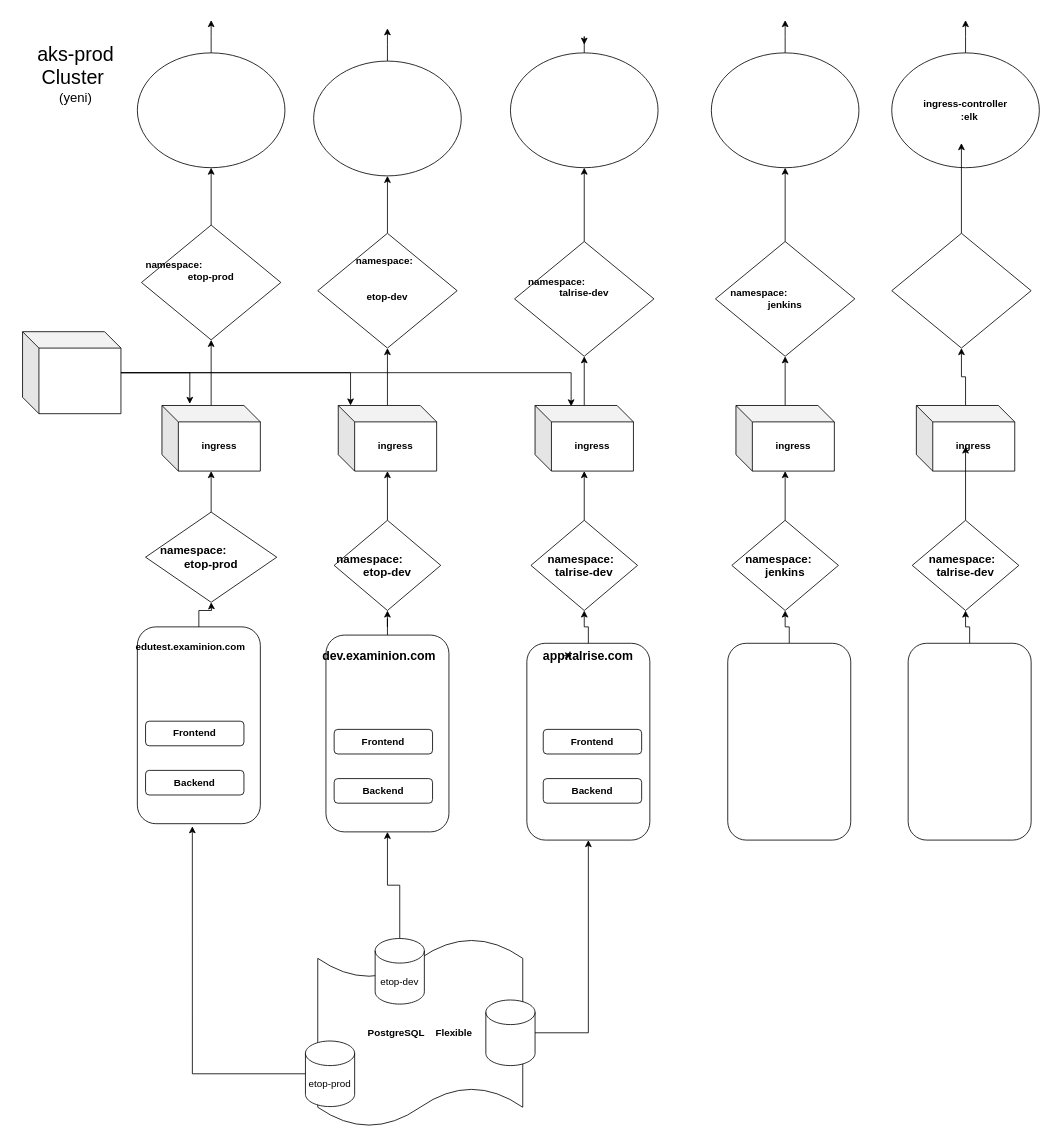
This 1054x1141 diagram has some shape labels left out. The centre of each missing label's shape, as x and y in pixels:
"cert-manager" belongs at pixel 71 372.
"Helm install elk ...." belongs at pixel 969 741.
"Helm install jenkins ......" belongs at pixel 789 741.
"ingress-controller : etop-prod-ingressc" belongs at pixel 211 110.
"ingress-controller : jenkins -ingressc" belongs at pixel 785 110.
"ingress-controller : talrise-dev-ingressc" belongs at pixel 584 110.
"ingress-controller :etop-dev-ingressc" belongs at pixel 387 118.
"namespace: elk" belongs at pixel 961 290.
"talrise-dev" belongs at pixel 510 1032.
